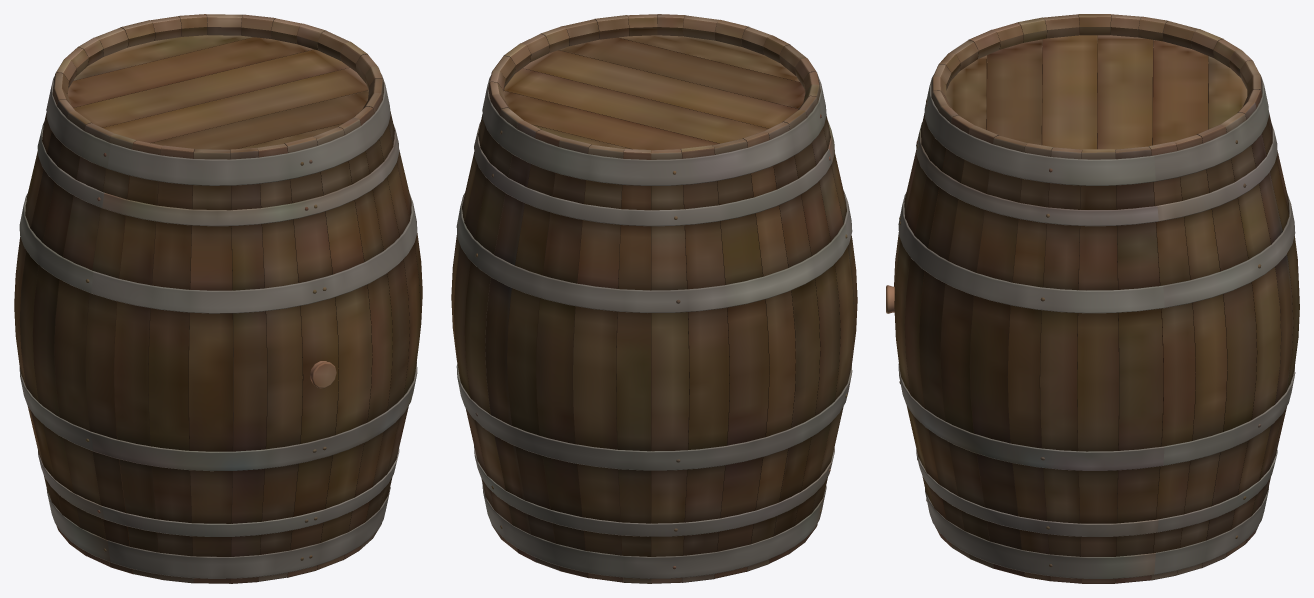
Rendered from wine_barrel_01.glb.
The picture shows the model from 3 angles, left to right: view 1: azimuth 30°, elevation 25°; view 2: azimuth 150°, elevation 25°; view 3: azimuth 270°, elevation 25°; orthographic projection.
Visible parts, largest first — view 1: wine_barrel_01, wine_barrel_01_Lid, wine_barrel_01_bung; view 2: wine_barrel_01, wine_barrel_01_Lid; view 3: wine_barrel_01, wine_barrel_01_Lid.
Boxes of the visible parts, x1=… form: wine_barrel_01: x1=14, y1=14, x2=422, y2=583; wine_barrel_01_Lid: x1=67, y1=35, x2=368, y2=149; wine_barrel_01_bung: x1=310, y1=361, x2=336, y2=388; wine_barrel_01: x1=451, y1=14, x2=857, y2=583; wine_barrel_01_Lid: x1=503, y1=35, x2=805, y2=152; wine_barrel_01: x1=894, y1=14, x2=1299, y2=583; wine_barrel_01_Lid: x1=946, y1=35, x2=1247, y2=149.
Size of the model in its own units: 0.7419 by 0.8713 by 0.756.
1 material, 1 textured.
